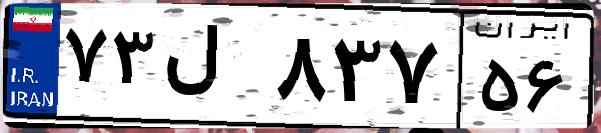3: (330, 28, 385, 110), (110, 28, 158, 98)
5: (475, 38, 525, 113)
6: (525, 38, 570, 115)
7: (385, 28, 445, 110), (57, 26, 110, 100)
8: (270, 28, 330, 110)
ل: (158, 20, 270, 120)
